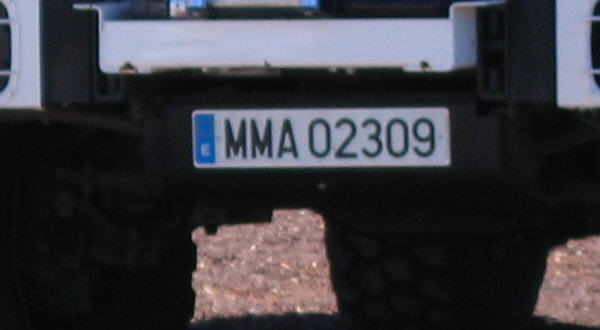license_plate: (191, 106, 452, 168)
